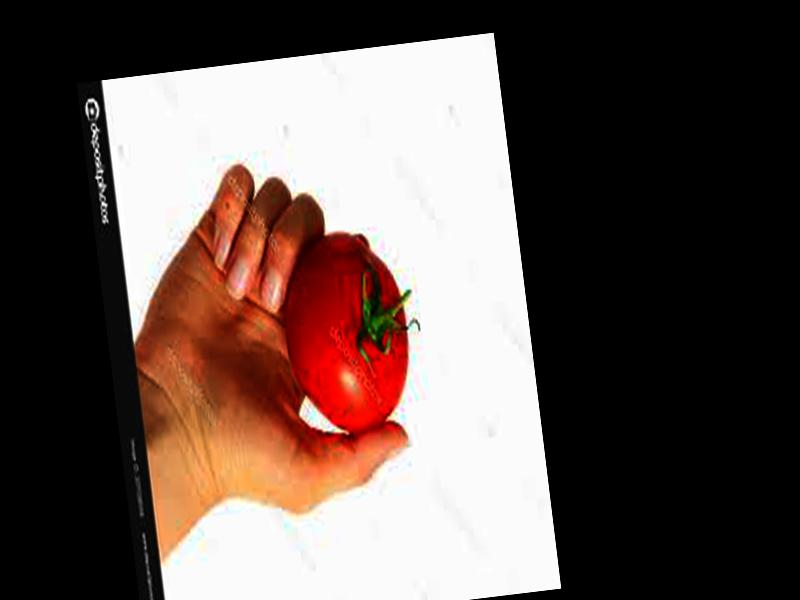Tomato: (274, 230, 419, 438)
